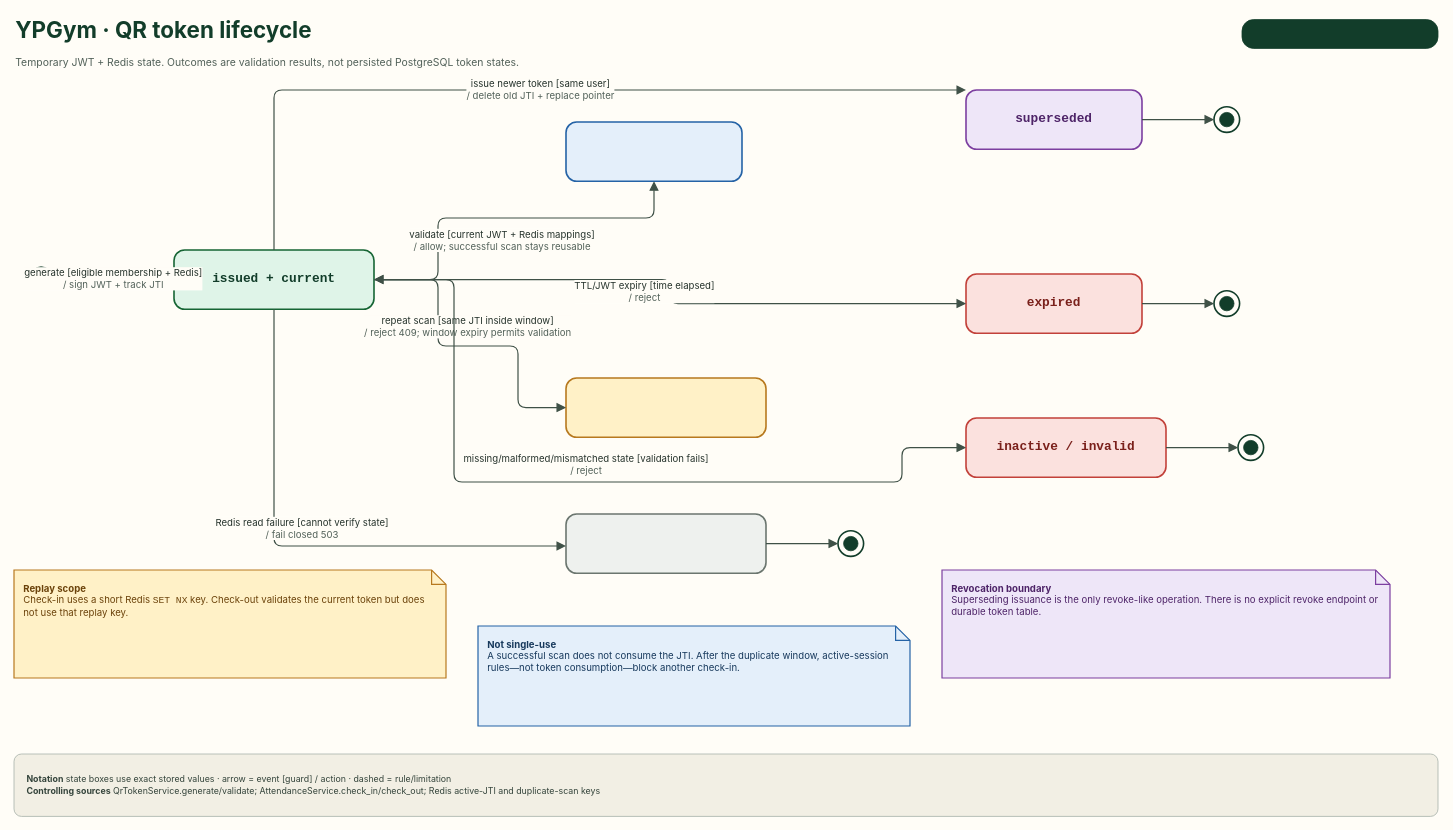
This 1453x830 diagram has some shape labels left out. The shapes that lost their labels are listed below. From the top down, each one's box as (x1, y1, x2, y2) in pixels, then its label:
(1241, 19, 1438, 48): CODE-VERIFIED · 4B75236
(565, 121, 742, 182): valid use
(565, 377, 766, 438): duplicate_scan
(565, 513, 766, 574): state unavailable
